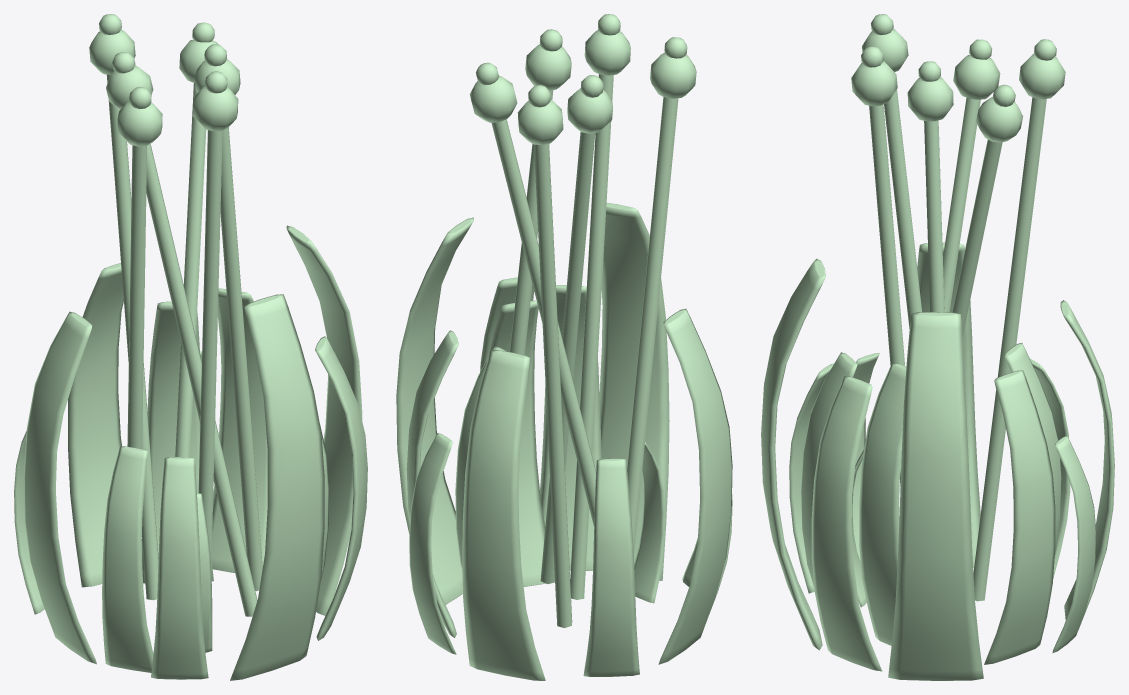
File: flower1.fbx
The picture shows the model from 3 angles, left to right: view 1: azimuth 30°, elevation 25°; view 2: azimuth 150°, elevation 25°; view 3: azimuth 270°, elevation 25°; orthographic projection. The views are drawn at different scales.
Parts seen in each view (by area): view 1: fleur_2.001; view 2: fleur_2.001; view 3: fleur_2.001.
Part boxes in pixels (x1=…): fleur_2.001: x1=14, y1=14, x2=367, y2=680; fleur_2.001: x1=396, y1=14, x2=732, y2=680; fleur_2.001: x1=761, y1=14, x2=1114, y2=680.
Bounding box in the file's own units: 29.17 × 52.14 × 29.18.
